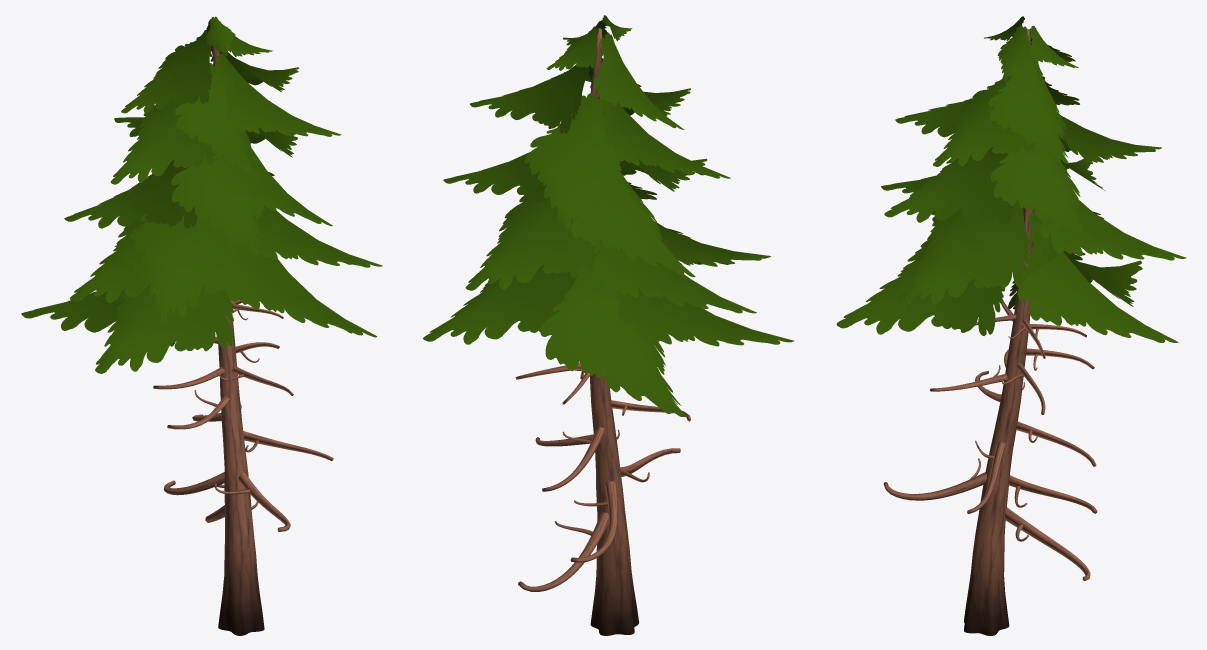
File: pine.glb
3 renders of one model, left to right at view 1: azimuth 30°, elevation 25°; view 2: azimuth 150°, elevation 25°; view 3: azimuth 270°, elevation 25°, orthographic. The views are drawn at different scales.
Parts seen in each view (by area): view 1: Pine_3; view 2: Pine_3; view 3: Pine_3.
Part boxes in pixels (x1,y1,x2,y2): Pine_3: (21, 16, 382, 635); Pine_3: (423, 15, 794, 635); Pine_3: (836, 16, 1186, 635).
Size of the model in its own units: 3.61 by 7.39 by 4.
2 materials, 2 textured.
